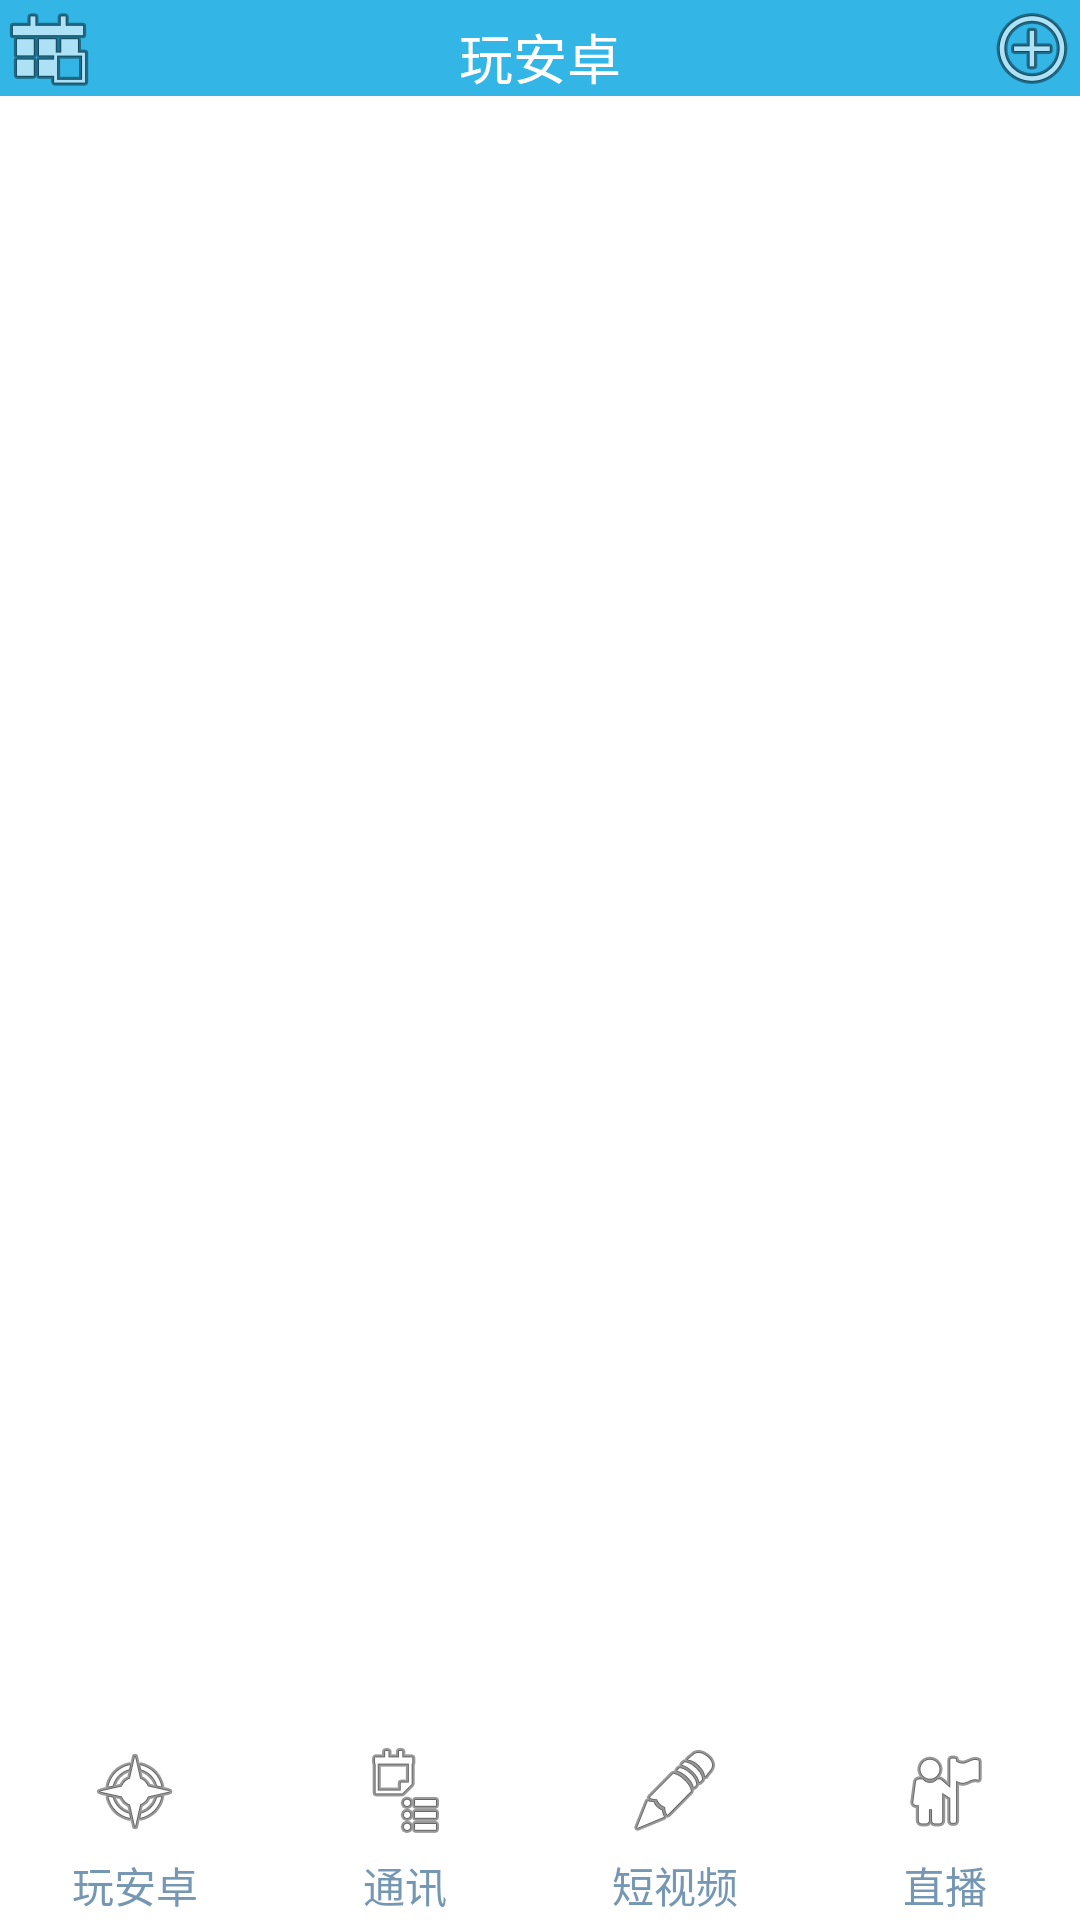

Icons on this 1080px x 1920px Android screen, each with its box as (x1, y1, x2, y2):
add: (996, 13, 1068, 84)
agenda: (372, 1748, 439, 1833)
compass: (97, 1754, 173, 1829)
edit: (634, 1750, 715, 1831)
myplaces: (910, 1755, 982, 1827)
today: (10, 13, 88, 86)
